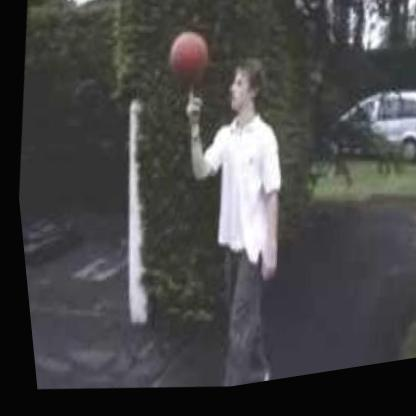basketball: (159, 28, 216, 98)
